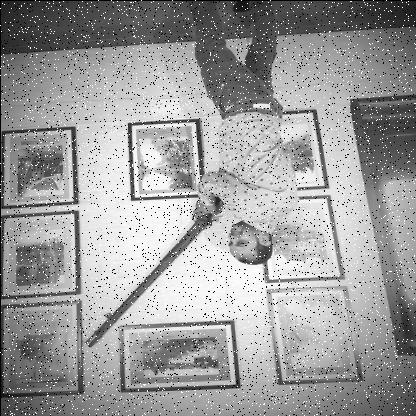rifle: (82, 194, 224, 348)
